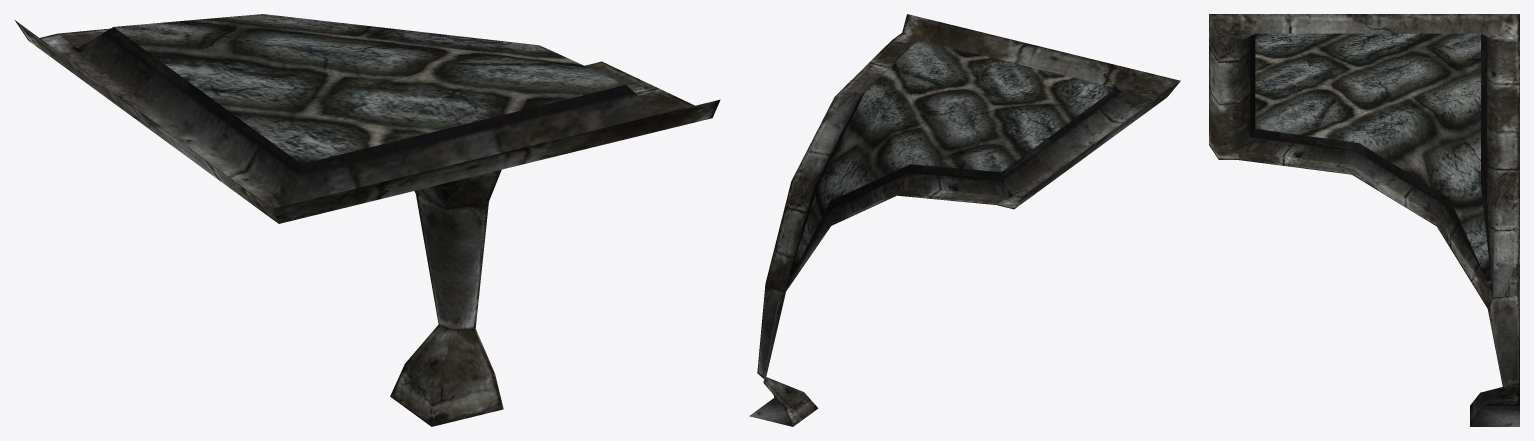
File: corner_convex_short.dae
3 views of the same model, side by side, from view 1: azimuth 30°, elevation 25°; view 2: azimuth 150°, elevation 25°; view 3: azimuth 270°, elevation 25° (orthographic). The views are drawn at different scales.
Visible parts, largest first — view 1: polySurface6; view 2: polySurface6; view 3: polySurface6.
Part boxes in pixels (x1=…): polySurface6: x1=15, y1=14, x2=720, y2=426; polySurface6: x1=749, y1=14, x2=1180, y2=426; polySurface6: x1=1209, y1=14, x2=1519, y2=426.
Size of the model in its own units: 2 by 2 by 2.
